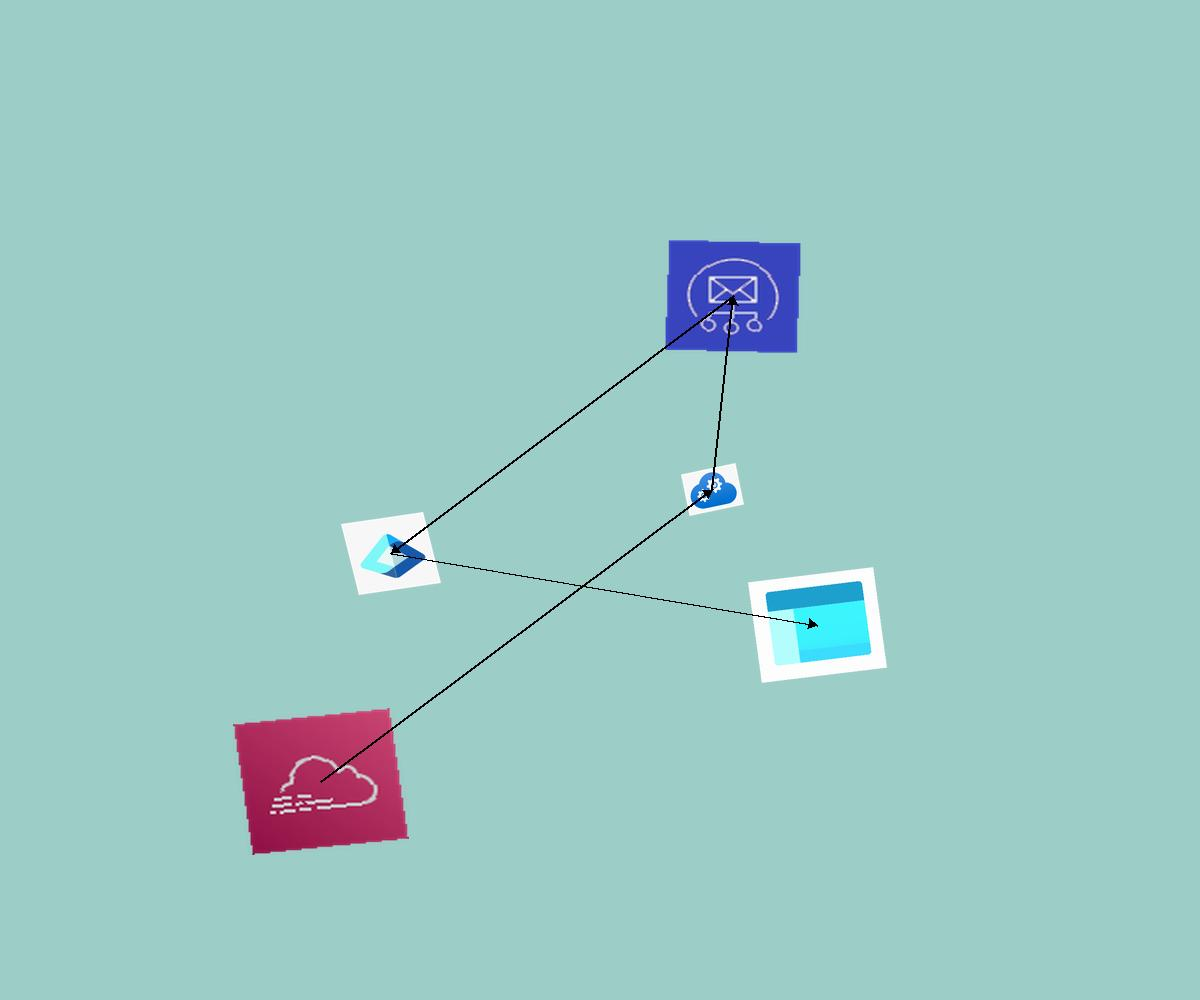AWS-CloudTrail: (233, 708, 409, 855)
AWS-Simple-Email-Service: (664, 239, 802, 354)
Azure_cloud_services: (681, 463, 744, 516)
Azure_management-portal: (748, 567, 887, 683)
Azure_microsoft_entra: (341, 512, 441, 595)
